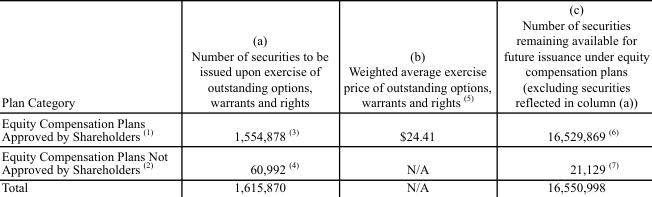table: (0, 1, 648, 194)
table column: (0, 1, 178, 194), (335, 1, 496, 194), (178, 1, 335, 194), (496, 1, 648, 194)
table column header: (0, 1, 648, 111)
table row: (0, 1, 648, 111), (0, 111, 648, 145), (0, 145, 648, 177), (0, 177, 648, 194)
